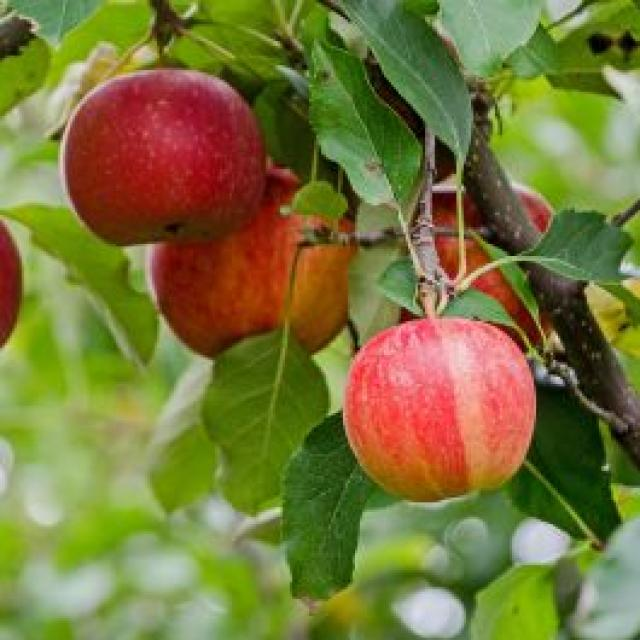100-_ripeness: (144, 162, 378, 357), (338, 314, 538, 505), (61, 70, 265, 246), (366, 180, 570, 354)
